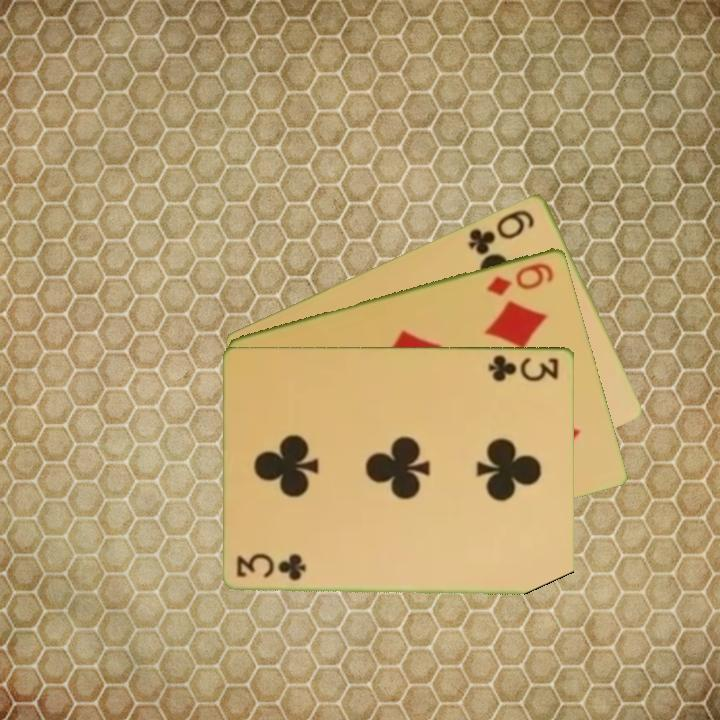3c: (485, 351, 562, 383), (233, 555, 309, 583)
6c: (464, 205, 538, 258)
6d: (483, 259, 557, 299)
